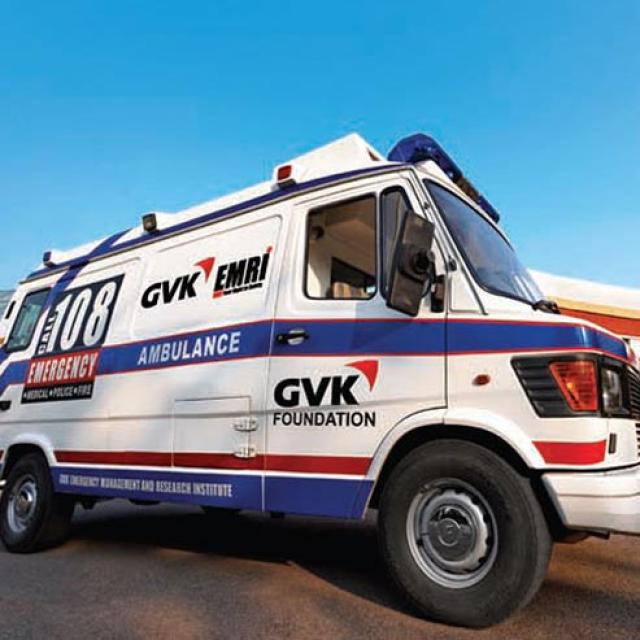ambulance: (0, 133, 640, 622)
